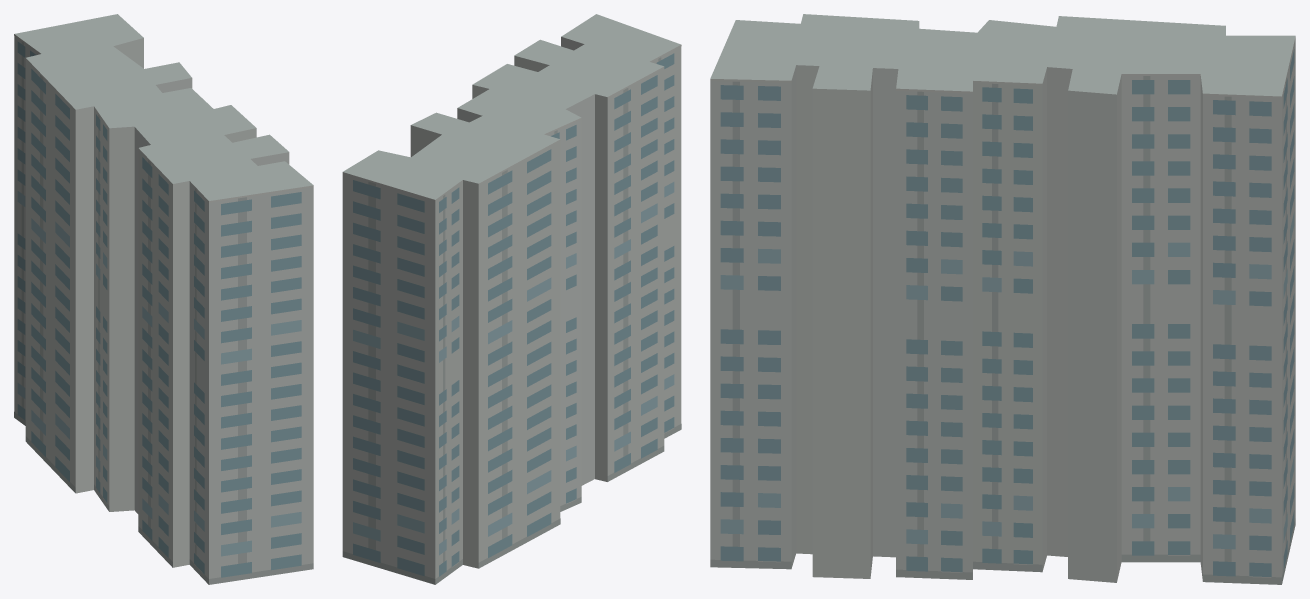
File: residential-518563a5-c4dd-4255-a83a-ba88642035f1.glb
3 renders of one model, left to right at view 1: azimuth 30°, elevation 25°; view 2: azimuth 150°, elevation 25°; view 3: azimuth 270°, elevation 25°, orthographic. The views are drawn at different scales.
Visible parts, largest first — view 1: residential-518563a5-c4dd-4255-a83a-ba88642035f1.tmp; view 2: residential-518563a5-c4dd-4255-a83a-ba88642035f1.tmp; view 3: residential-518563a5-c4dd-4255-a83a-ba88642035f1.tmp.
Part boxes in pixels (x1,y1,x2,y2): residential-518563a5-c4dd-4255-a83a-ba88642035f1.tmp: [14, 14, 313, 584]; residential-518563a5-c4dd-4255-a83a-ba88642035f1.tmp: [342, 14, 681, 584]; residential-518563a5-c4dd-4255-a83a-ba88642035f1.tmp: [710, 14, 1295, 584].
Bounding box in the file's own units: 19.89 × 54.9 × 59.66.
